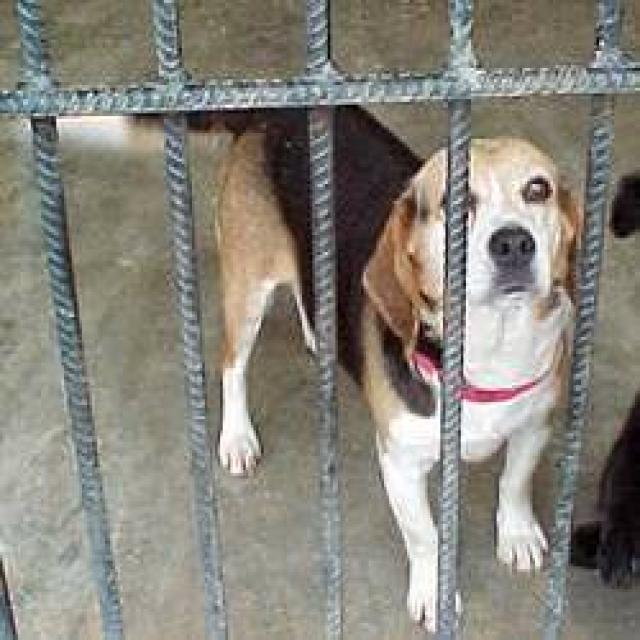dog: (210, 105, 584, 631), (568, 156, 638, 592)
